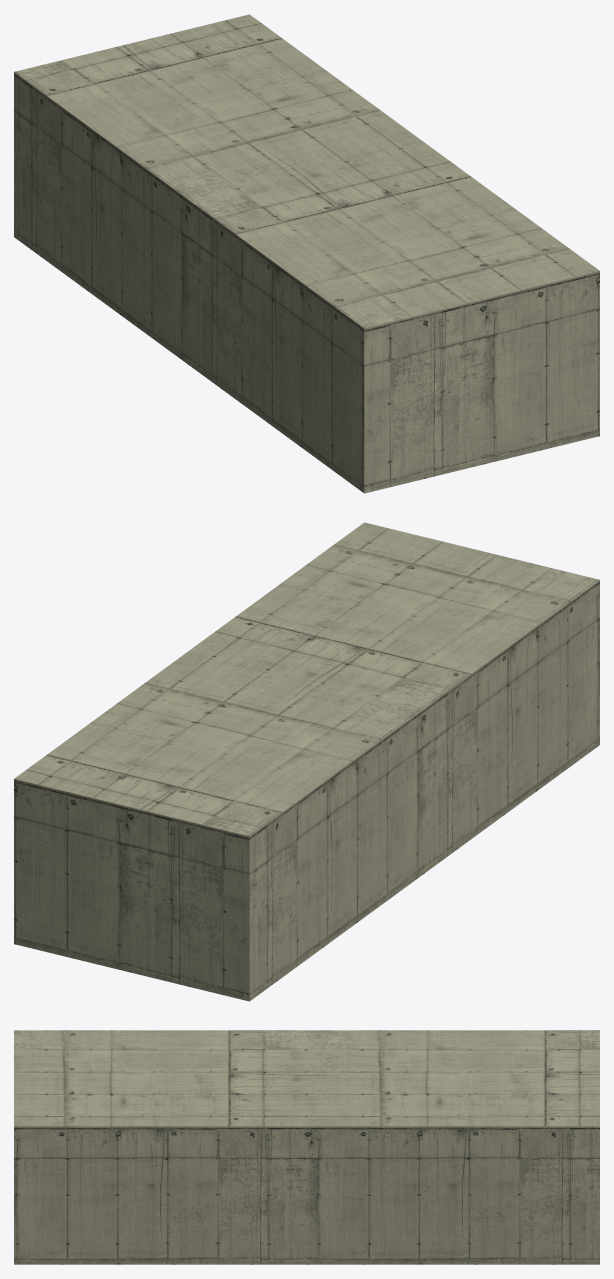
The model's file is SM_Republic_09_01.fbx.
3 renders of one model, top to bottom at view 1: azimuth 30°, elevation 25°; view 2: azimuth 150°, elevation 25°; view 3: azimuth 270°, elevation 25°, orthographic. The views are drawn at different scales.
Visible parts, largest first — view 1: SM_Republic_09_01; view 2: SM_Republic_09_01; view 3: SM_Republic_09_01.
Boxes of the visible parts, x1,y1,x2,y2 form: SM_Republic_09_01: [14, 14, 599, 493]; SM_Republic_09_01: [14, 522, 599, 1001]; SM_Republic_09_01: [14, 1030, 599, 1264].
Size of the model in its own units: 654 by 439 by 1686.
